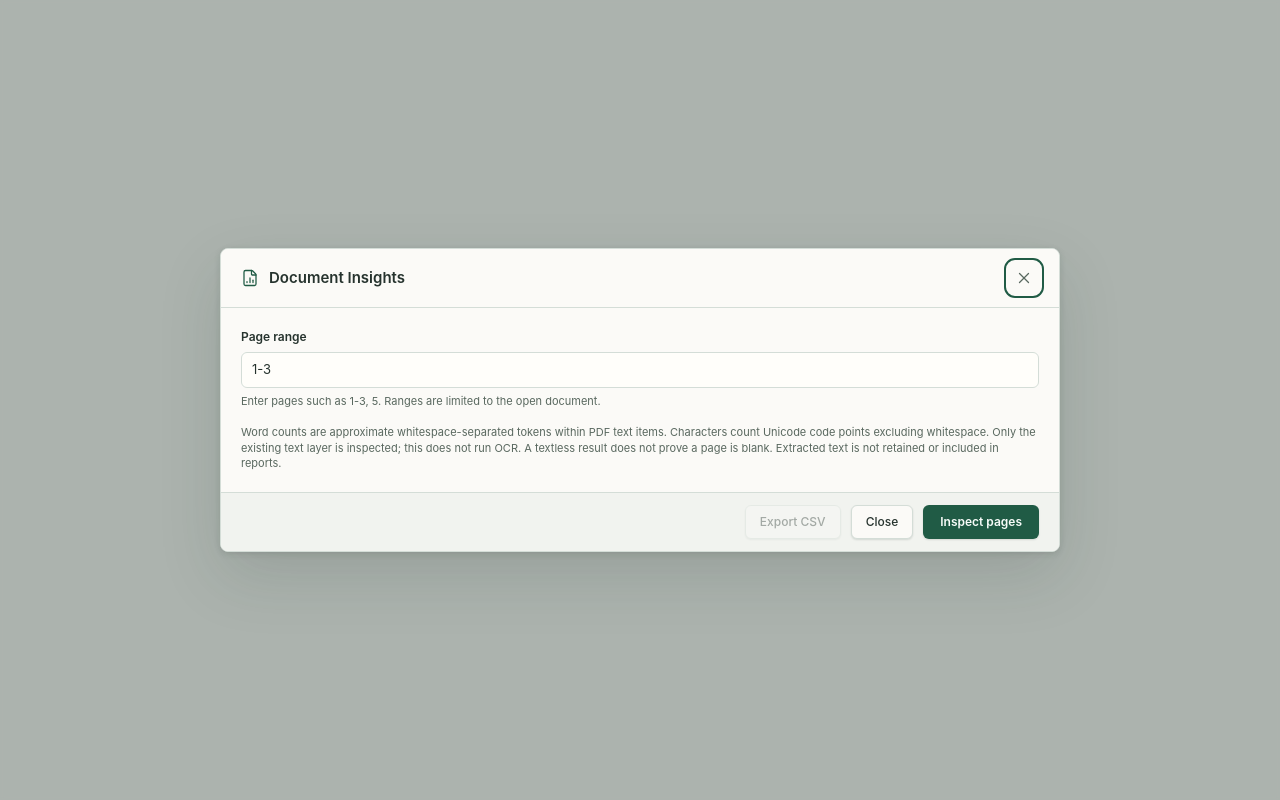
Test: DocumentInsightsDialog › inspects only a chosen range and presents honest text counts and page geometry
This screenshot has width=1280, height=800.
Replace the text in the field labelled "Page range" with "2-3" at (640, 370), box [241,352,1039,388]
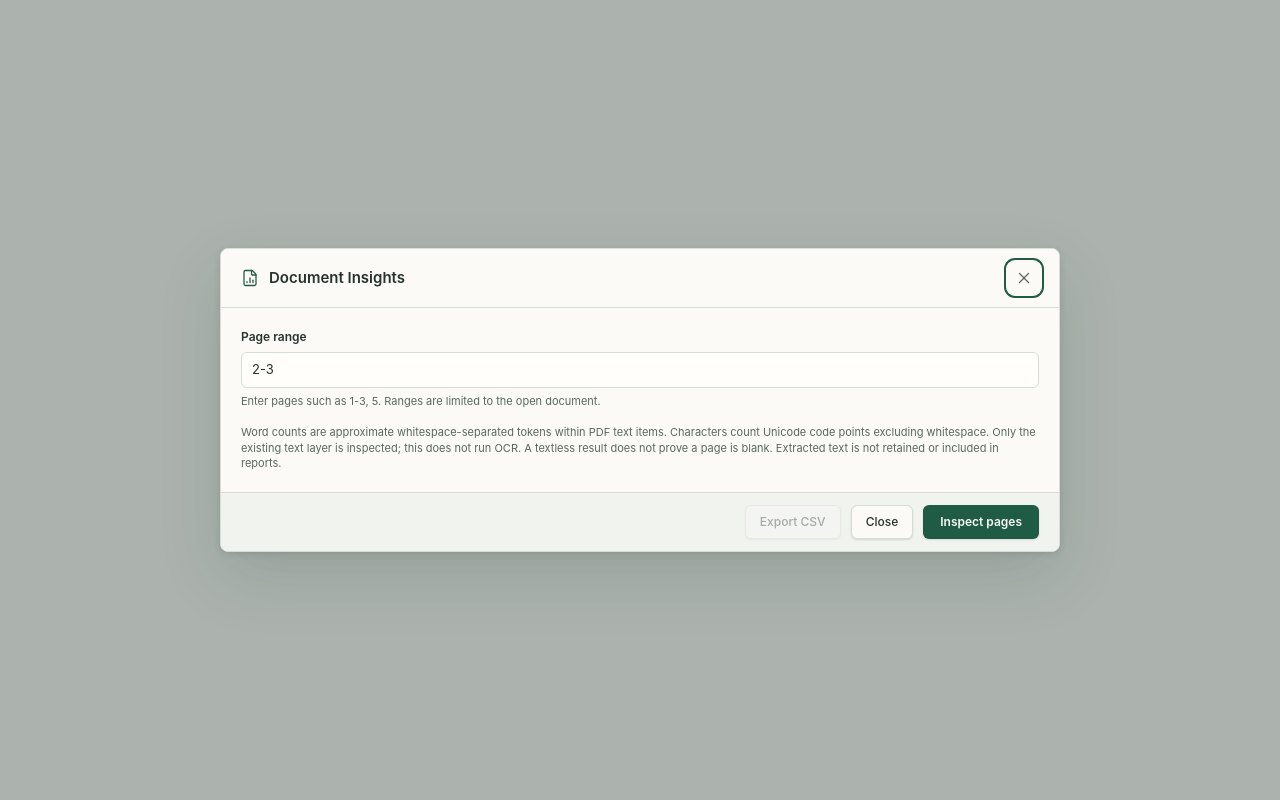
Click the button "Inspect pages" at (981, 522), box [923,504,1039,538]
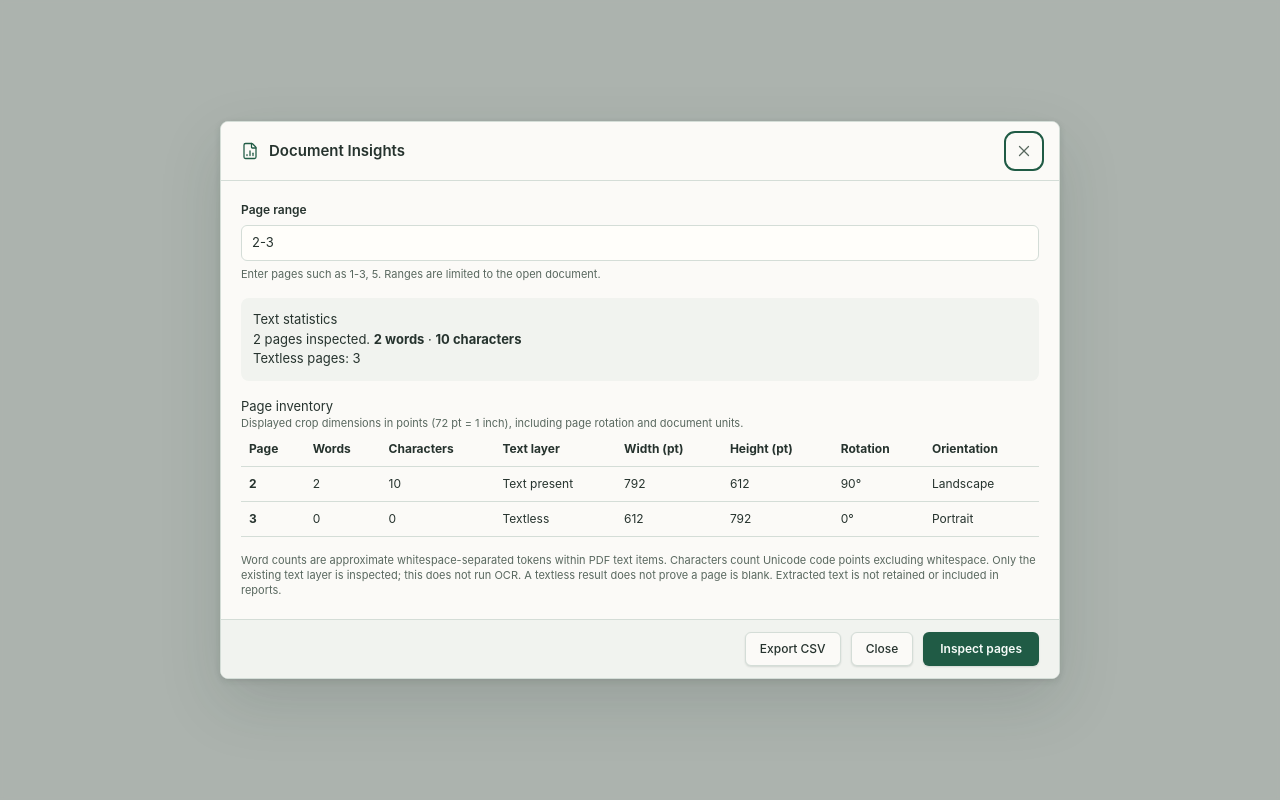
Check: the text "2 words" is shown, box [374,331,424,347]
Check: the text "10 characters" is shown, box [435,331,521,347]
Check: the text "Textless pages: 3" is shown, box [253,350,361,366]
Replace the text in the field labelled "Page range" with "oops" at (640, 243), box [241,225,1039,261]
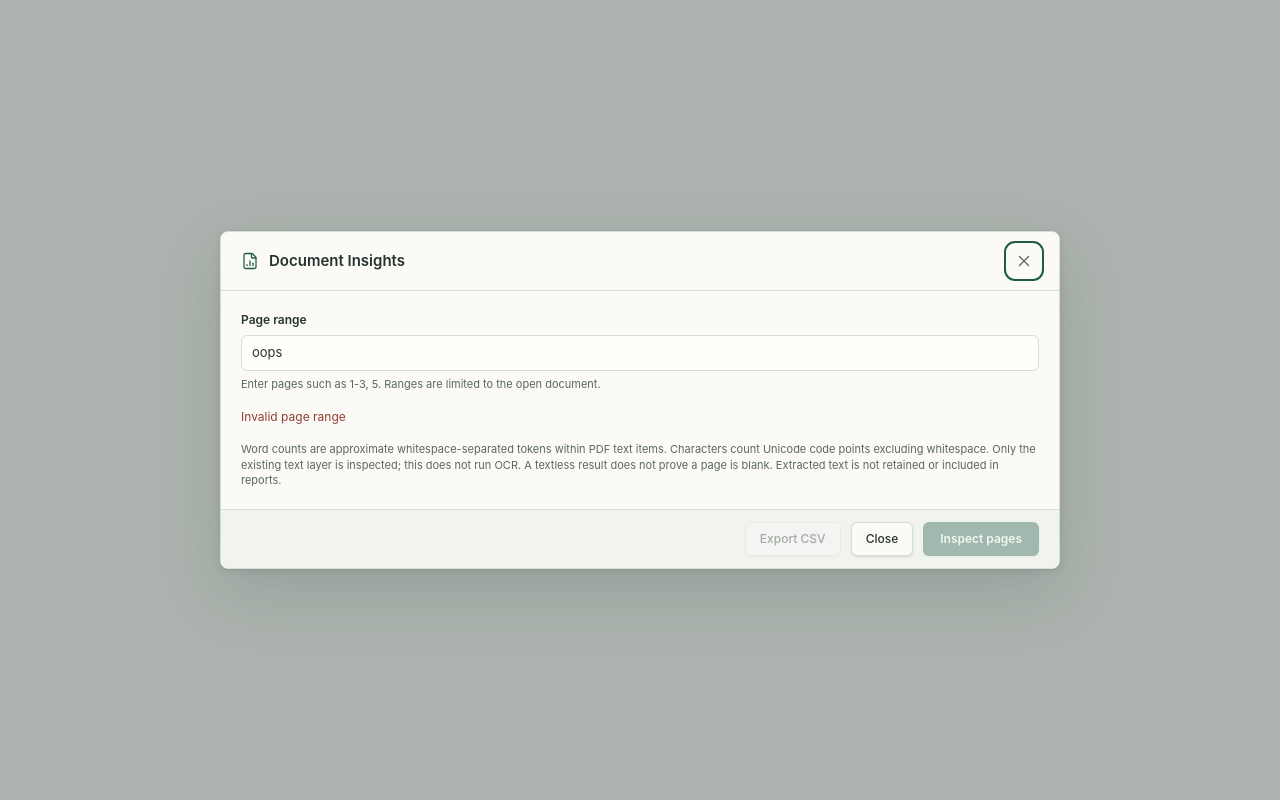
Check: the message reads "Invalid page range", box [241,409,346,424]
Check: the button "Inspect pages" is disabled, box [923,522,1039,556]
Check: the table is gone
